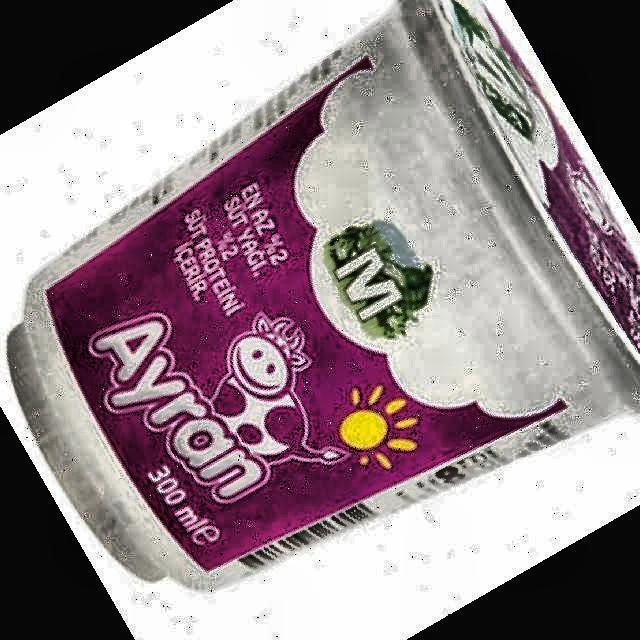plastic: (9, 0, 640, 587)
